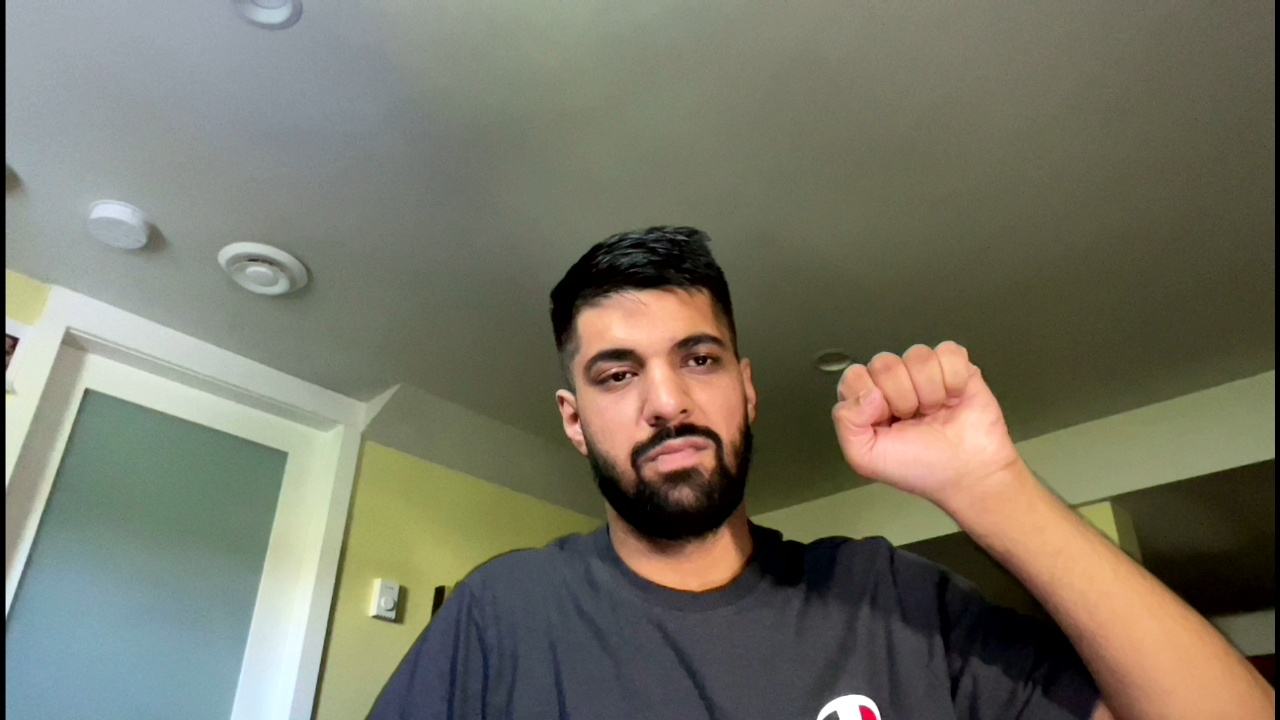No: (824, 335, 1033, 483)
